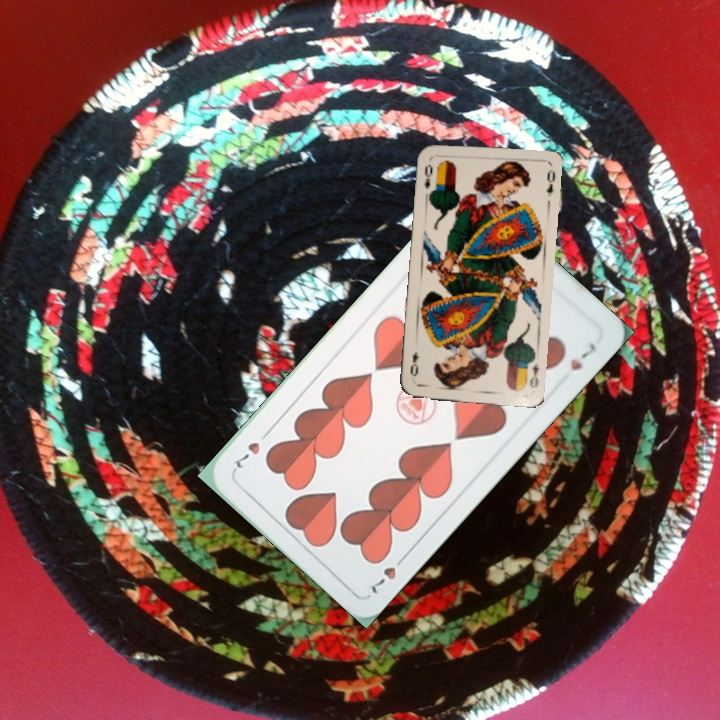EO: (525, 360, 542, 390), (420, 160, 435, 191)
H7: (365, 549, 410, 597)
